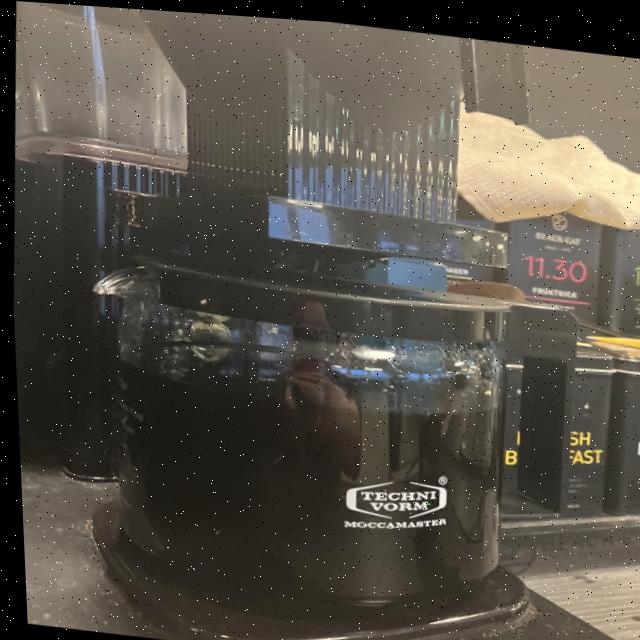coffee: (55, 249, 521, 626)
